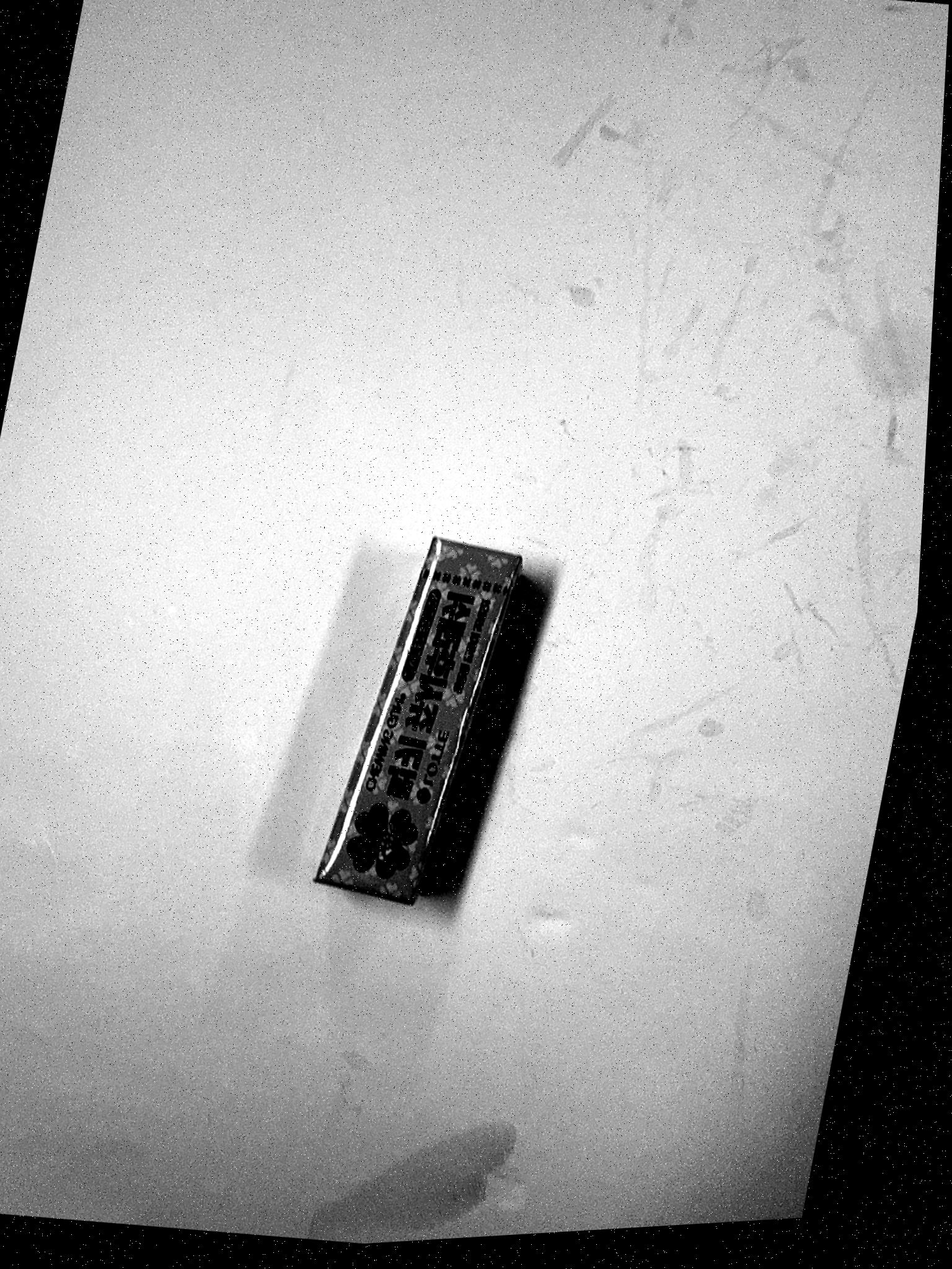gum_yellow: (314, 537, 520, 904)
